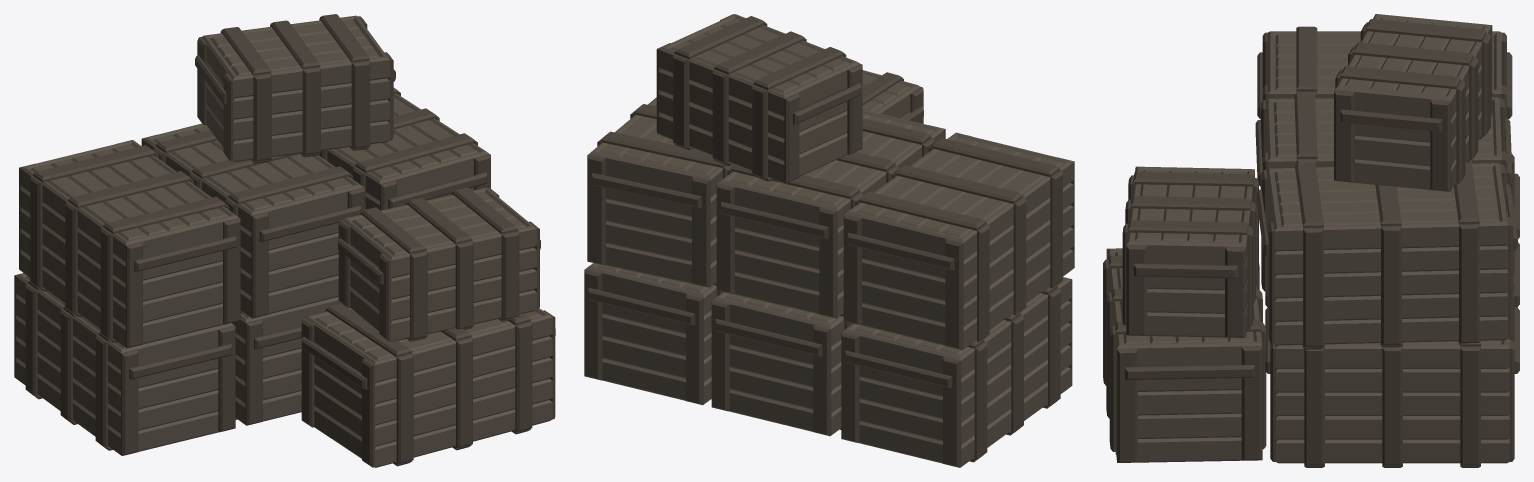
The model's file is Prop_Crate_Pile_01.fbx.
3 views of the same model, side by side, from view 1: azimuth 30°, elevation 25°; view 2: azimuth 150°, elevation 25°; view 3: azimuth 270°, elevation 25° (orthographic). The views are drawn at different scales.
Visible parts, largest first — view 1: Prop_Crate_Pile_01_LOD0; view 2: Prop_Crate_Pile_01_LOD0; view 3: Prop_Crate_Pile_01_LOD0.
Part boxes in pixels (x1,y1,x2,y2): Prop_Crate_Pile_01_LOD0: [14, 14, 555, 467]; Prop_Crate_Pile_01_LOD0: [584, 14, 1074, 467]; Prop_Crate_Pile_01_LOD0: [1103, 14, 1519, 467].
Size of what is drawn, in the model's own units: 148 by 119 by 128.
